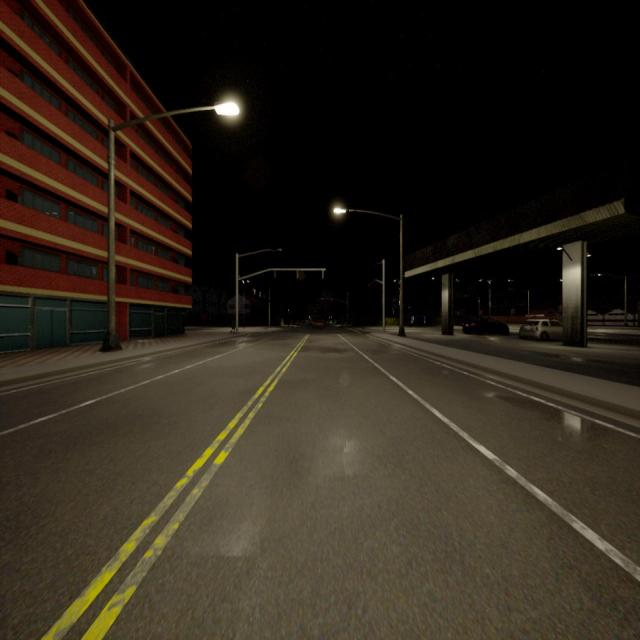Vehicle: (519, 320, 563, 341), (462, 318, 508, 334), (312, 320, 324, 329)
traffic_light: (296, 270, 299, 278), (274, 270, 276, 278), (322, 271, 324, 279), (321, 298, 323, 300), (331, 298, 333, 300)
